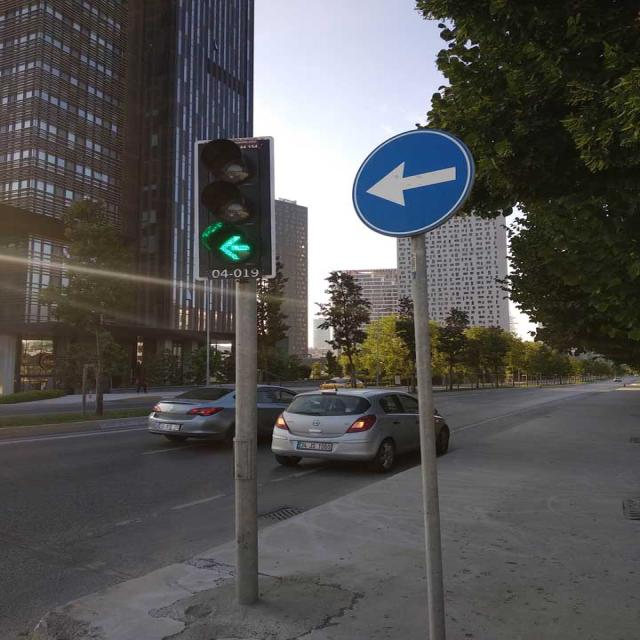sol: (353, 130, 474, 236)
yesil: (192, 137, 277, 279)
